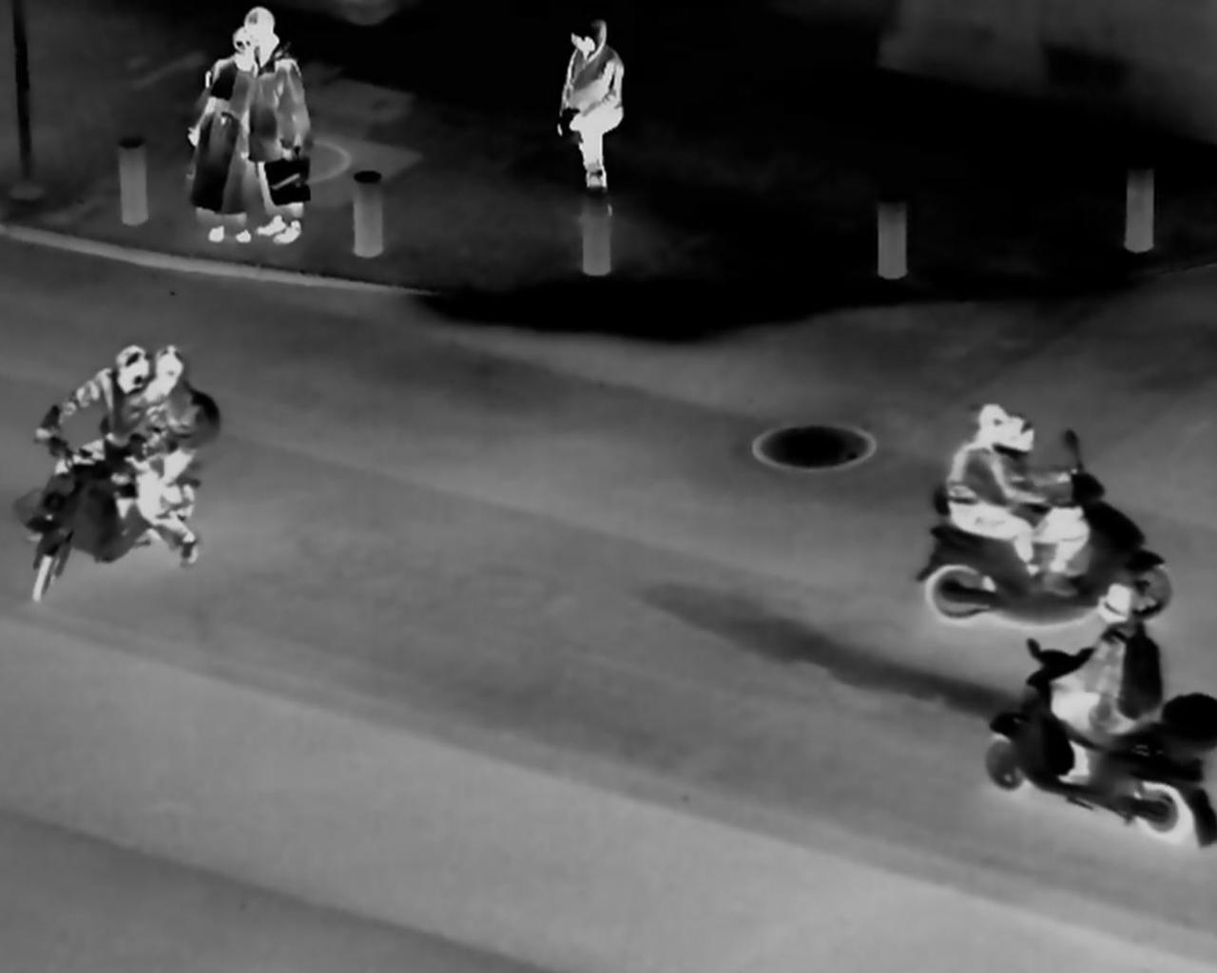person: (226, 4, 321, 265), (987, 405, 1097, 595), (1071, 581, 1166, 783), (62, 337, 150, 530), (551, 18, 644, 198), (194, 26, 263, 239), (954, 381, 1016, 598), (140, 333, 193, 550)
